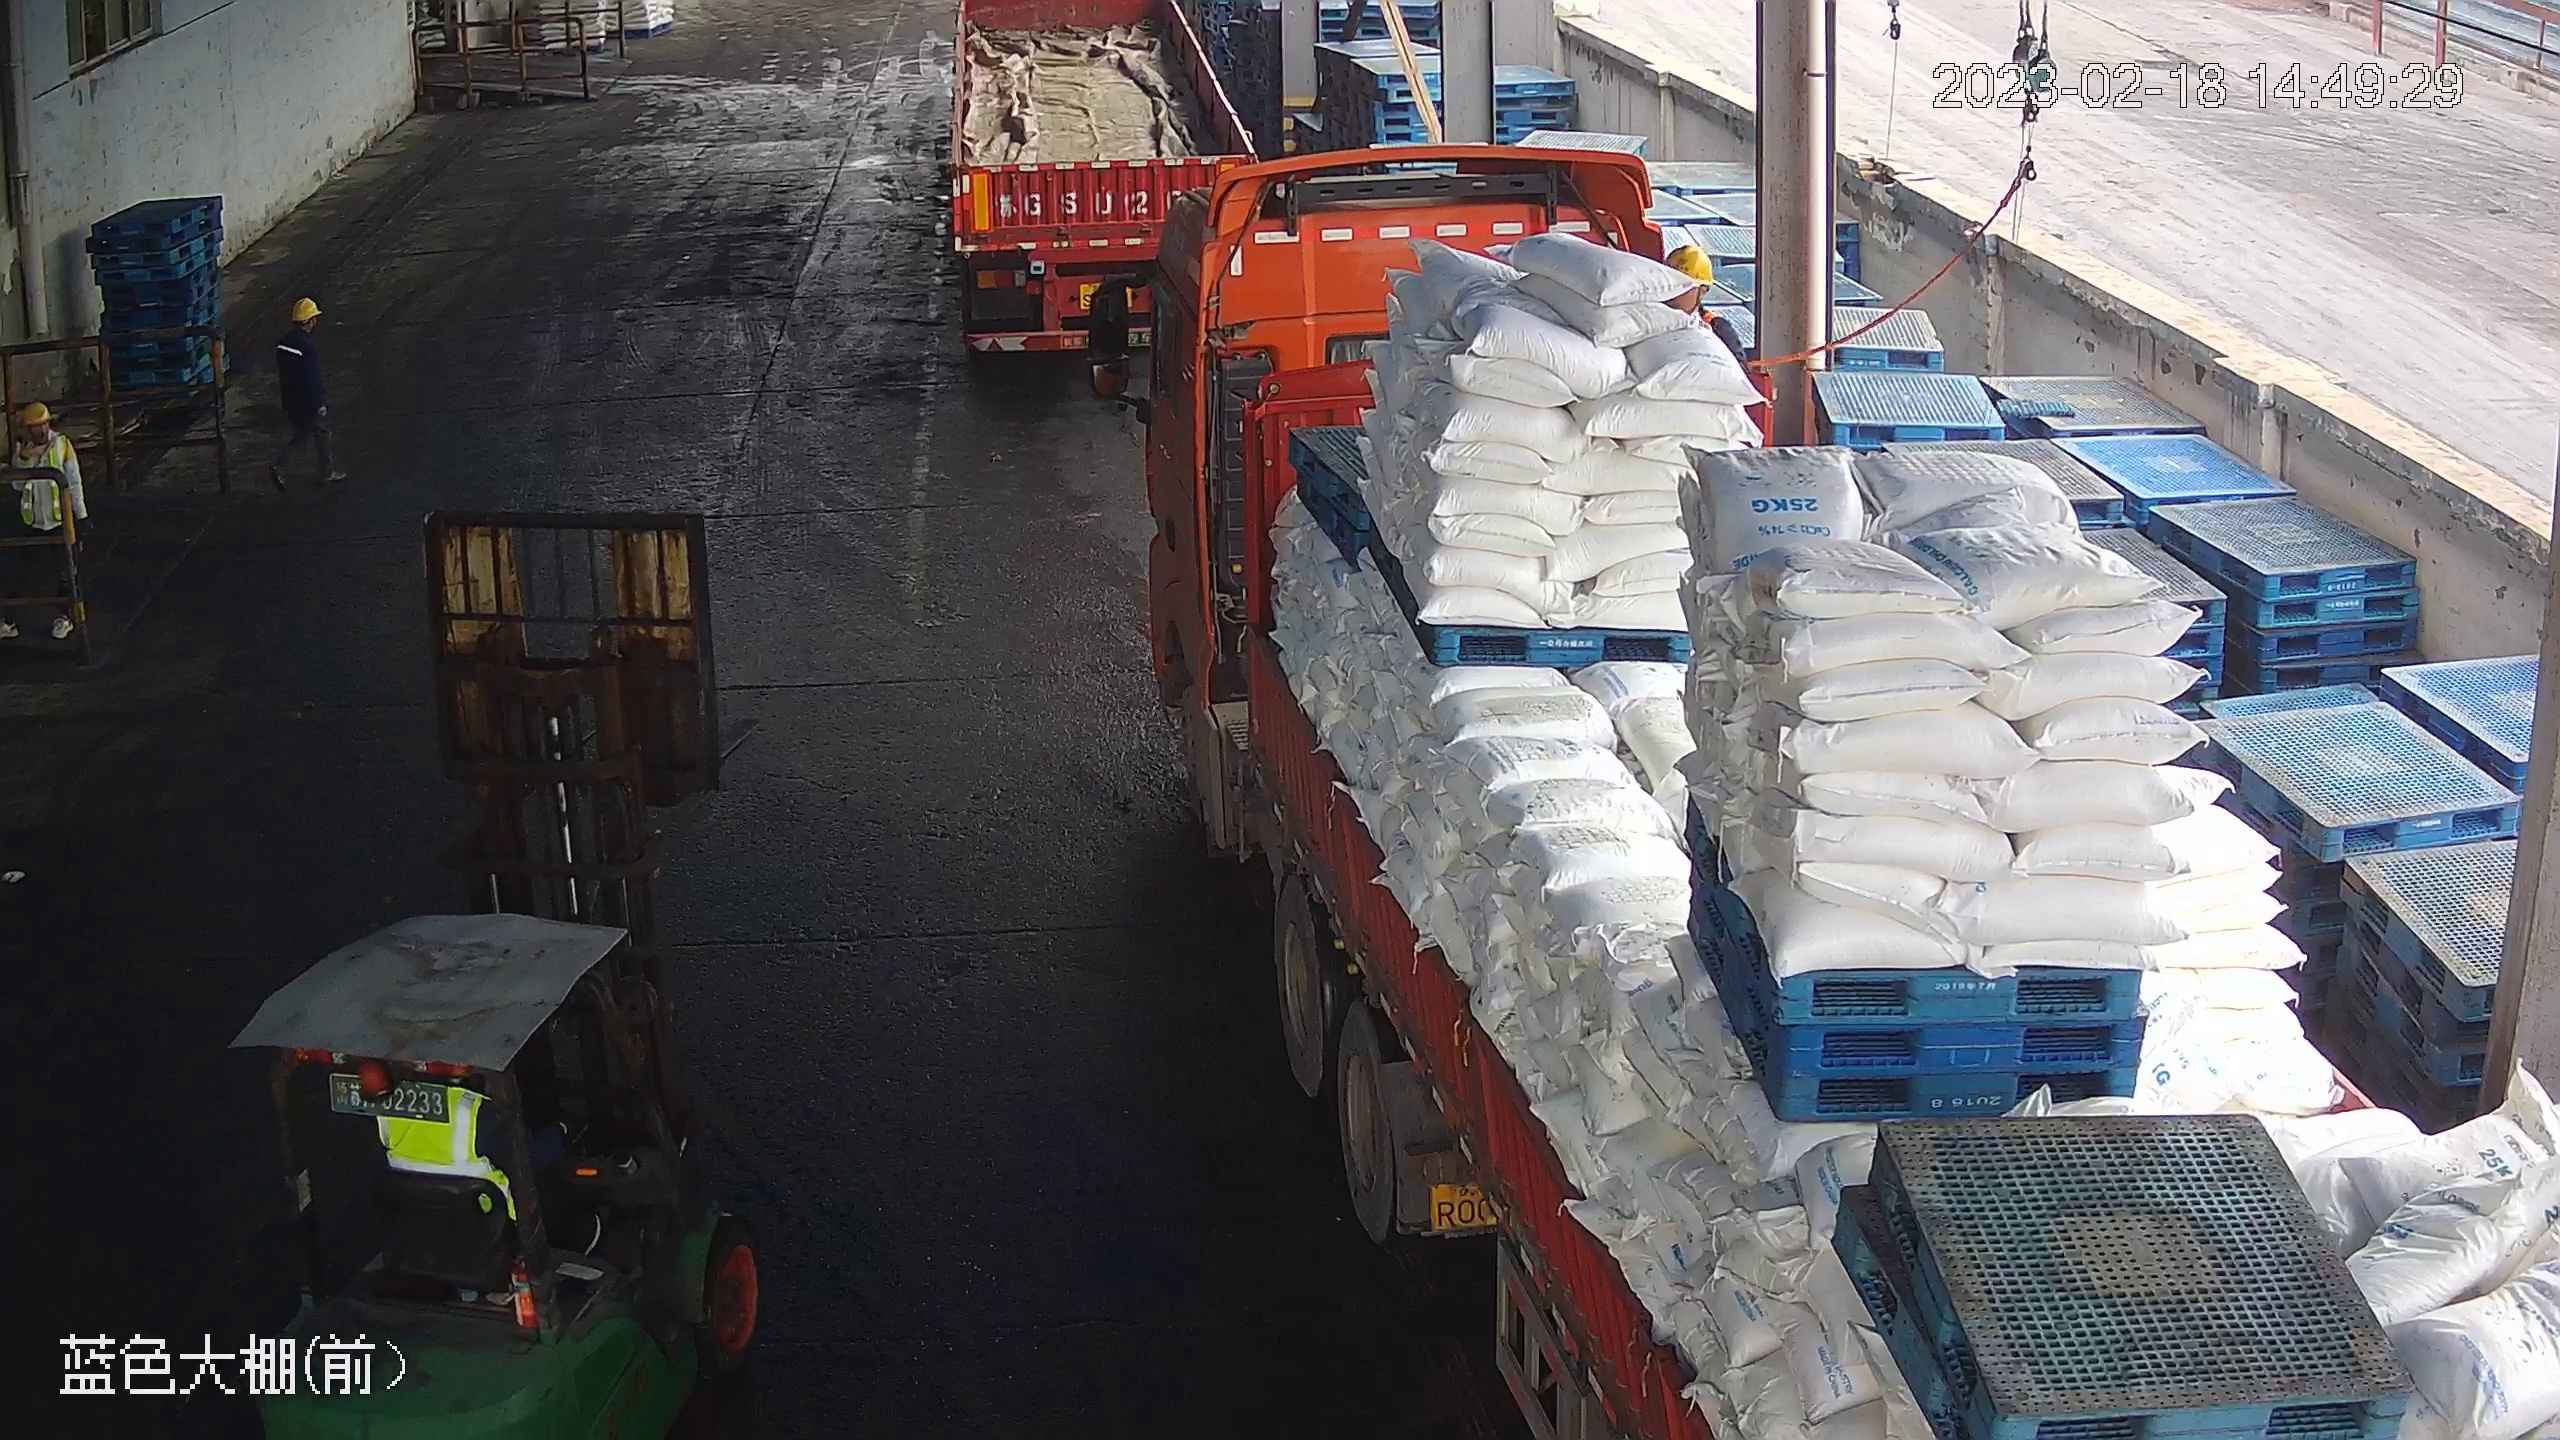head: (12, 401, 81, 476), (275, 297, 325, 368)
helmet: (1664, 240, 1715, 286), (290, 295, 321, 320), (17, 401, 48, 423)
people: (271, 292, 350, 493)
truck: (1050, 162, 2555, 1440), (916, 1, 1285, 354)
